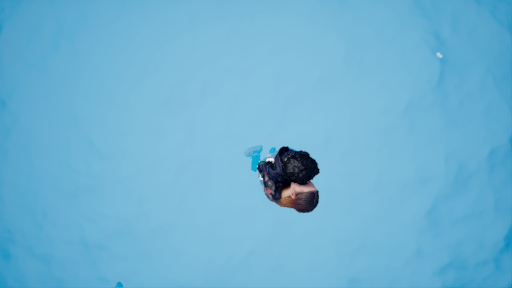person: (246, 142, 322, 214)
